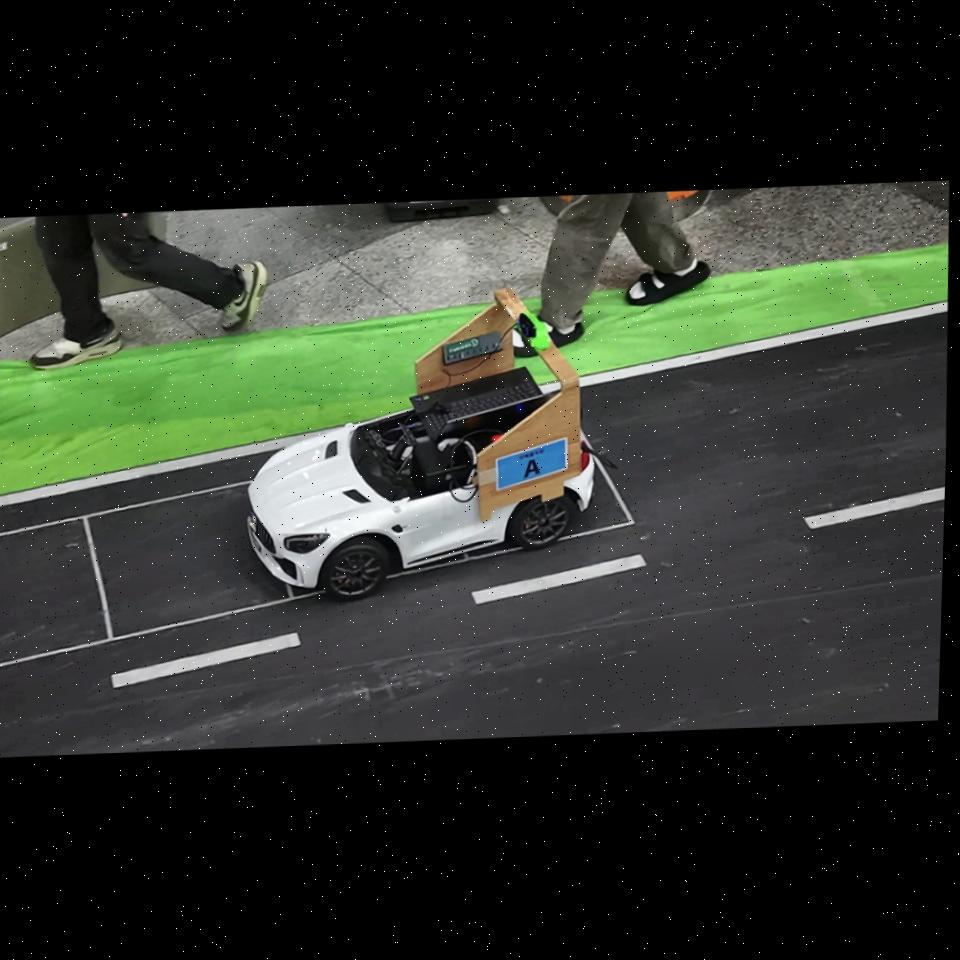broken_line: (111, 632, 301, 688), (470, 554, 647, 605), (803, 487, 945, 529)
